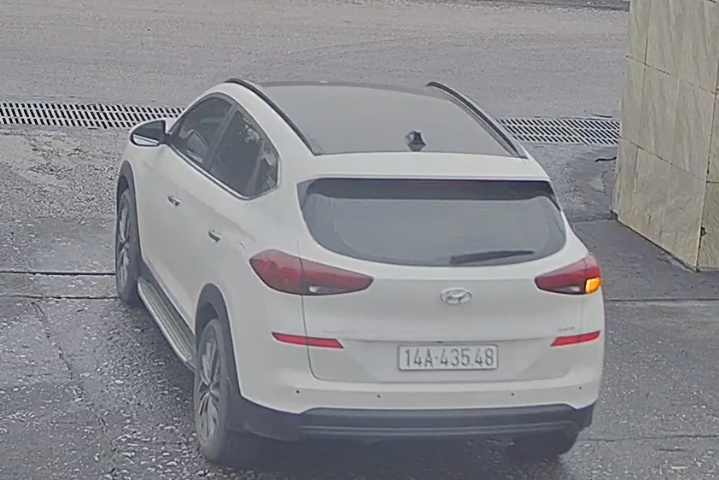vehicle plate: (391, 335, 507, 377)
